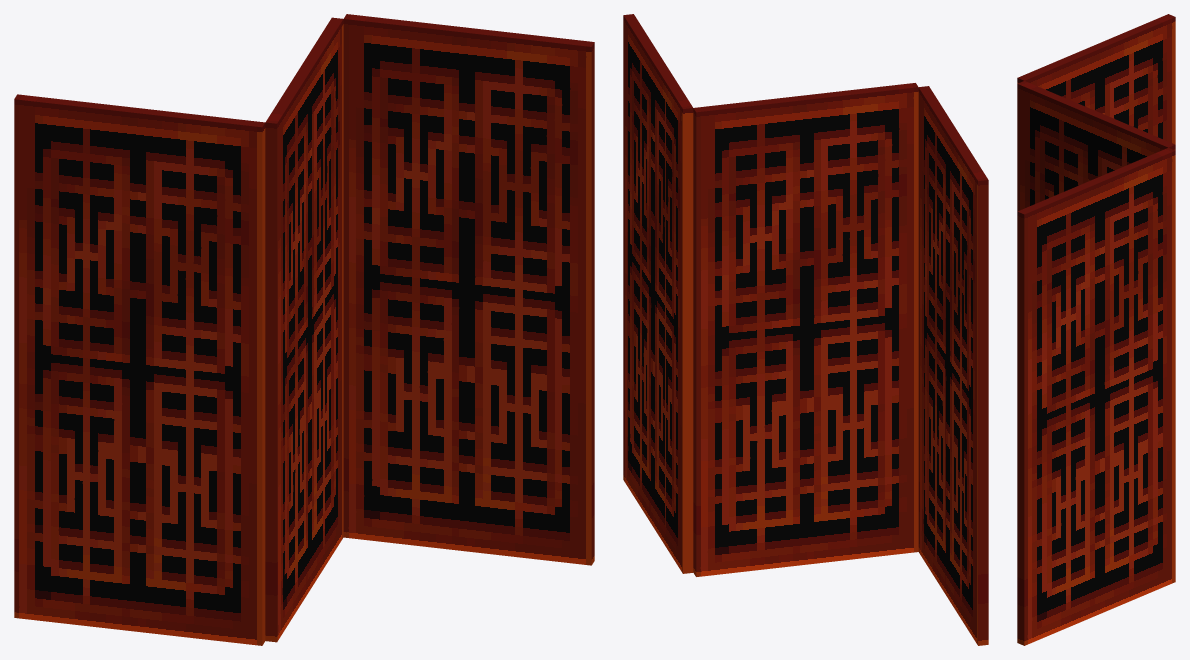
The picture shows the model from 3 angles, left to right: view 1: azimuth 30°, elevation 25°; view 2: azimuth 150°, elevation 25°; view 3: azimuth 270°, elevation 25°; orthographic projection. The views are drawn at different scales.
Visible parts, largest first — view 1: 3100IMRL07_09; view 2: 3100IMRL07_09; view 3: 3100IMRL07_09.
Boxes of the visible parts, left/top/right/bottom form: 3100IMRL07_09: left=14, top=14, right=594, bottom=645; 3100IMRL07_09: left=623, top=14, right=988, bottom=645; 3100IMRL07_09: left=1017, top=14, right=1175, bottom=645.
Bounding box in the file's own units: 1.88 × 1.89 × 0.6279.
1 material, 1 textured.
